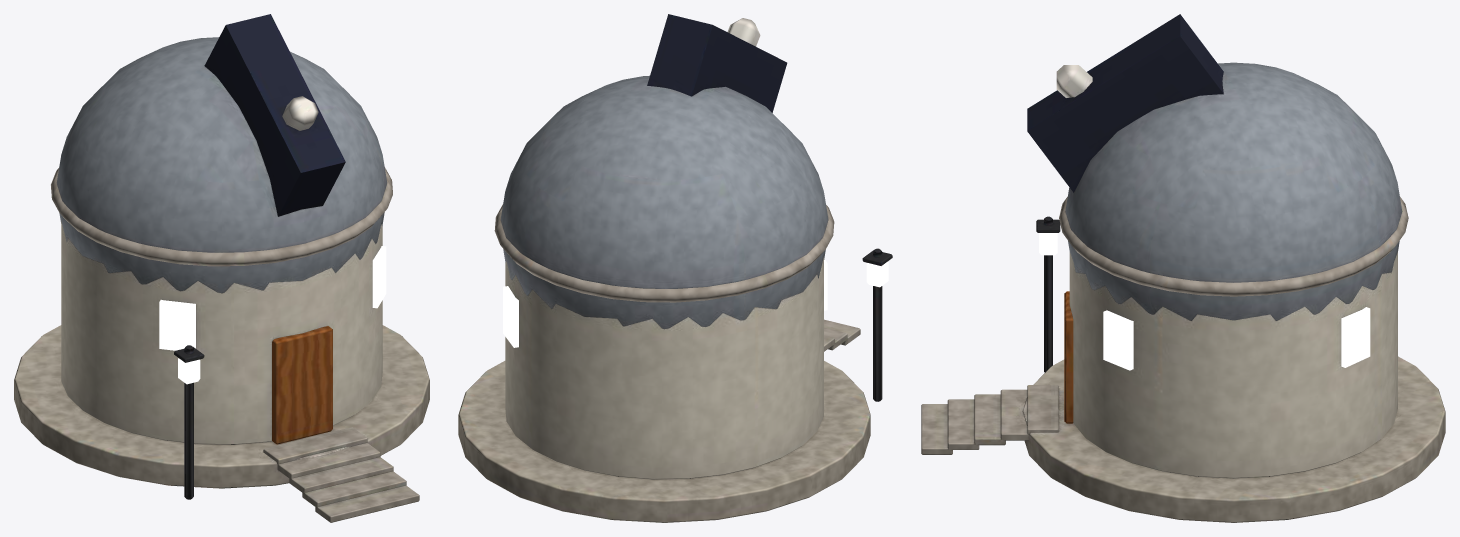
File: observatory.glb
3 views of the same model, side by side, from view 1: azimuth 30°, elevation 25°; view 2: azimuth 150°, elevation 25°; view 3: azimuth 270°, elevation 25° (orthographic). The views are drawn at different scales.
Parts seen in each view (by area): view 1: observatory; view 2: observatory; view 3: observatory.
Boxes of the visible parts, x1=… form: observatory: x1=14, y1=14, x2=429, y2=522; observatory: x1=458, y1=14, x2=892, y2=522; observatory: x1=921, y1=14, x2=1445, y2=522.
Bounding box in the file's own units: 1.6 × 1.7 × 1.98.
Materials: 1 (1 with a texture image).
